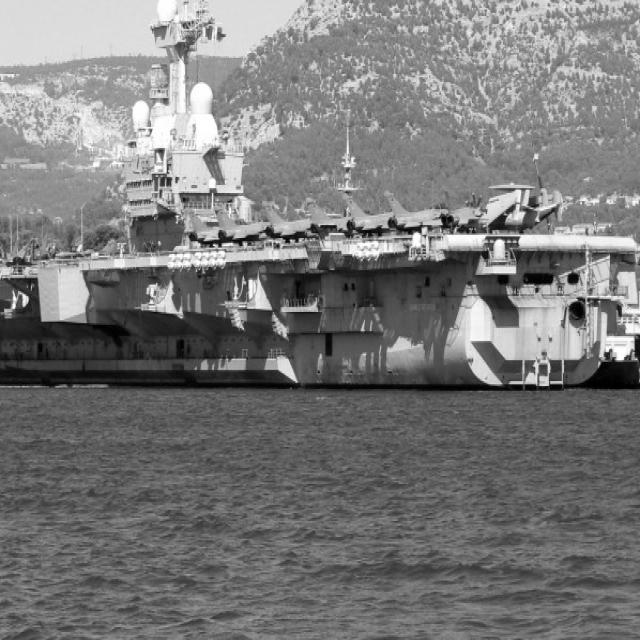Portanaves: (1, 1, 639, 393)
